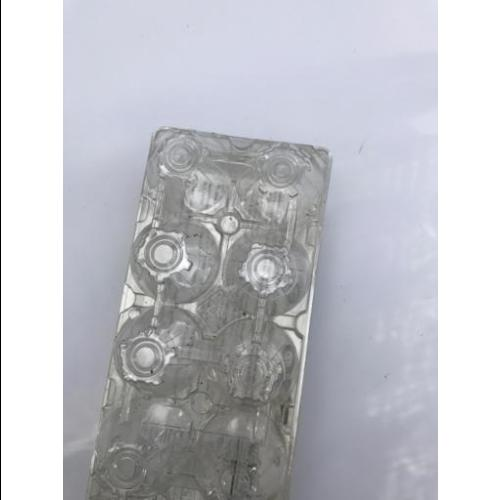plastic: (88, 128, 333, 499)
